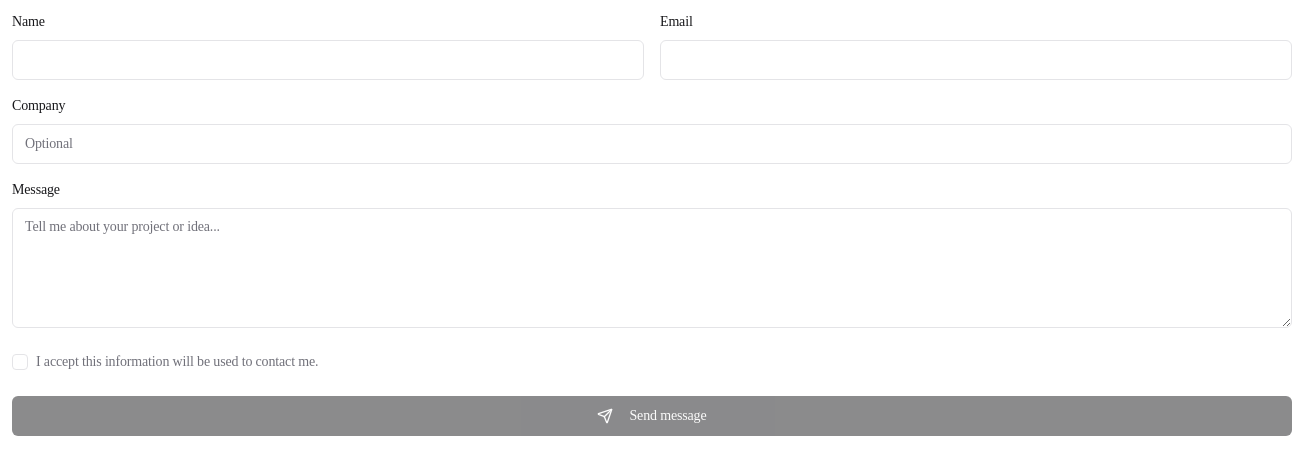
it: ContactForm › submits to Web3Forms and shows the success state
Type "Test User" into the field labelled "Name". click: (328, 60)
box: [12,40,644,80]
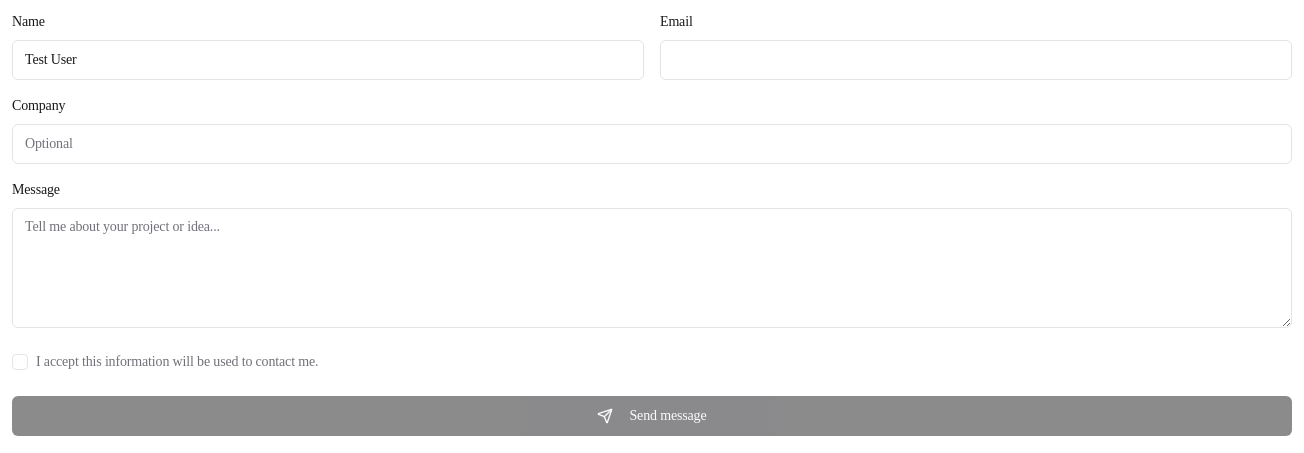
Type "test@example.com" into the field labelled "Email". click: (976, 60)
box: [660,40,1292,80]
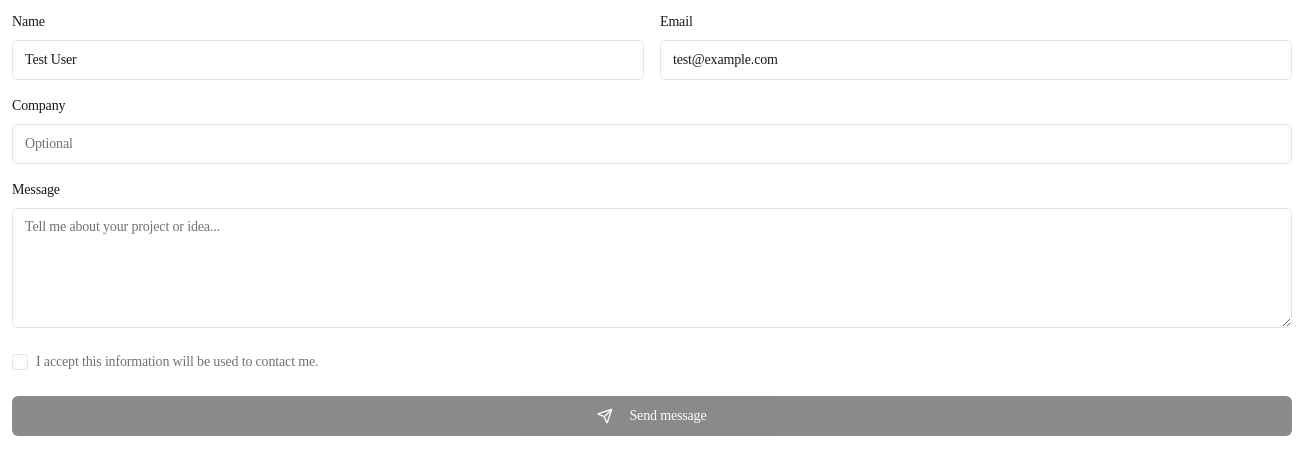
Type "Hello from the test suite!" into the text box labelled "Message". click: (652, 268)
box: [12,208,1292,328]
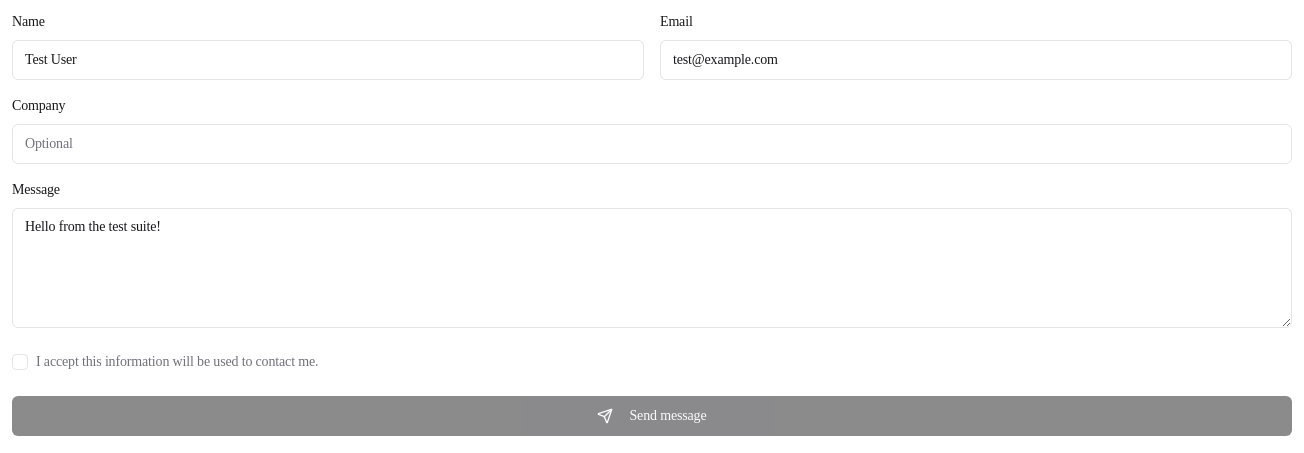
Click the checkbox. click: (20, 362)
box: [12,354,28,370]
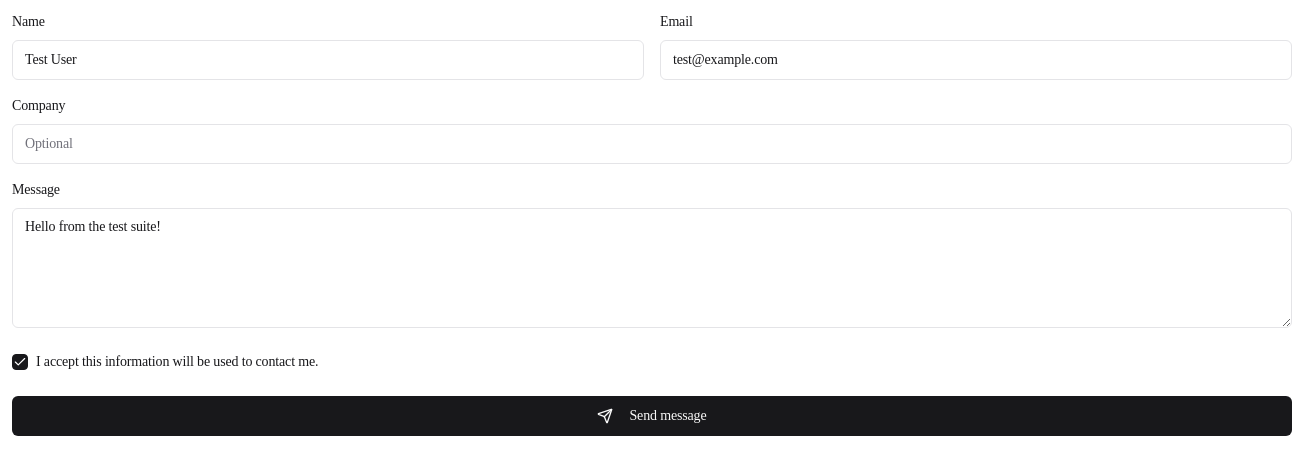
Click the button "Send message". click: (652, 416)
box: [12,396,1292,436]
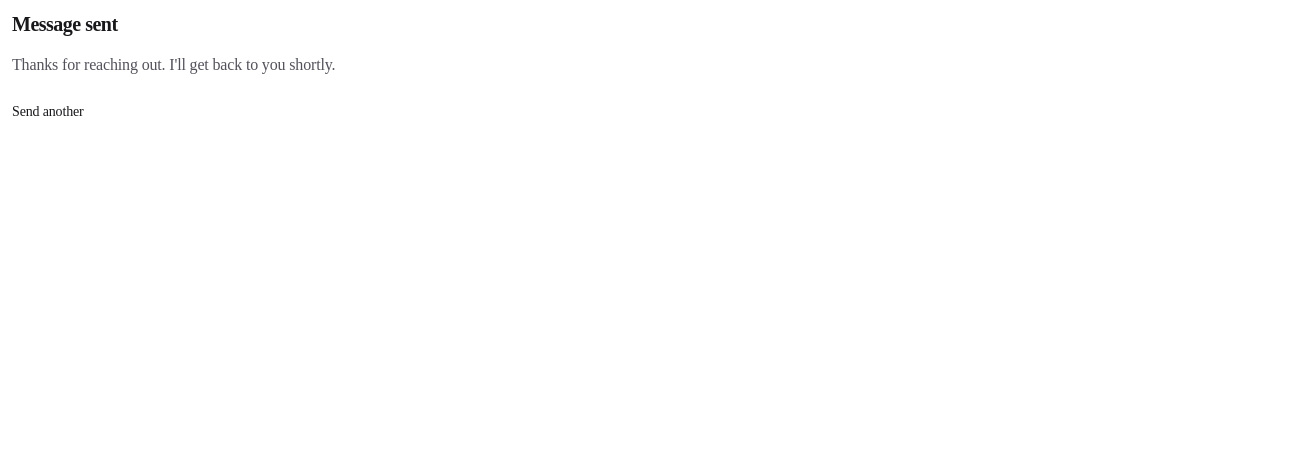
Result: the heading "Message sent" is shown at [12,13,118,35]
